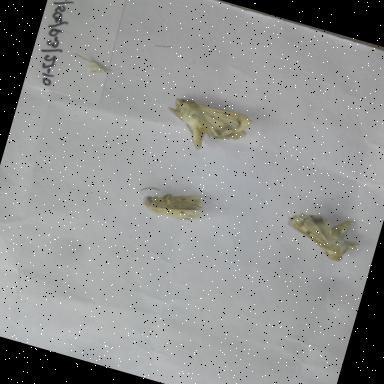abw: (155, 84, 260, 166), (274, 198, 370, 272), (122, 170, 214, 237)
